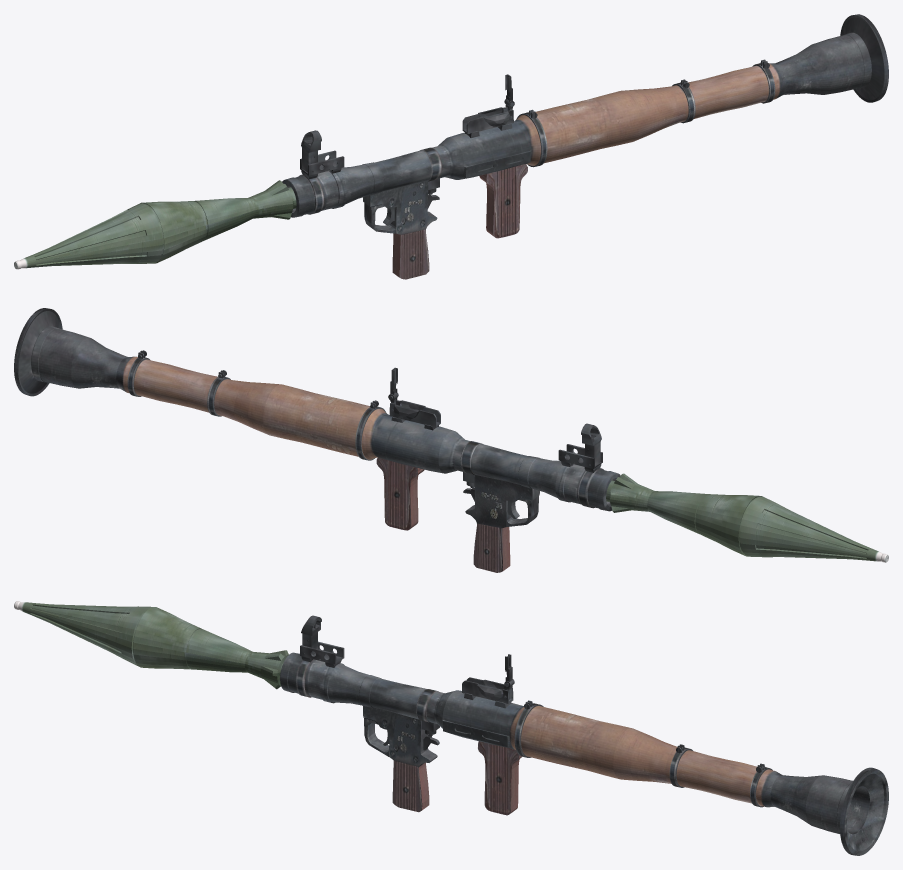
Rendered from RPG.fbx.
The picture shows the model from 3 angles, top to bottom: view 1: azimuth 30°, elevation 25°; view 2: azimuth 150°, elevation 25°; view 3: azimuth 330°, elevation 25°; orthographic projection.
Parts seen in each view (by area): view 1: Launcher, Rocket; view 2: Launcher, Rocket; view 3: Launcher, Rocket.
Part boxes in pixels (x1,y1,x2,y2): Launcher: (282, 14, 888, 279); Rocket: (14, 180, 296, 269); Launcher: (14, 308, 620, 572); Rocket: (606, 473, 888, 562); Launcher: (280, 615, 888, 855); Rocket: (14, 601, 288, 689).
Bounding box in the file's own units: 947 × 186 × 86.5.
2 materials, 2 textured.
